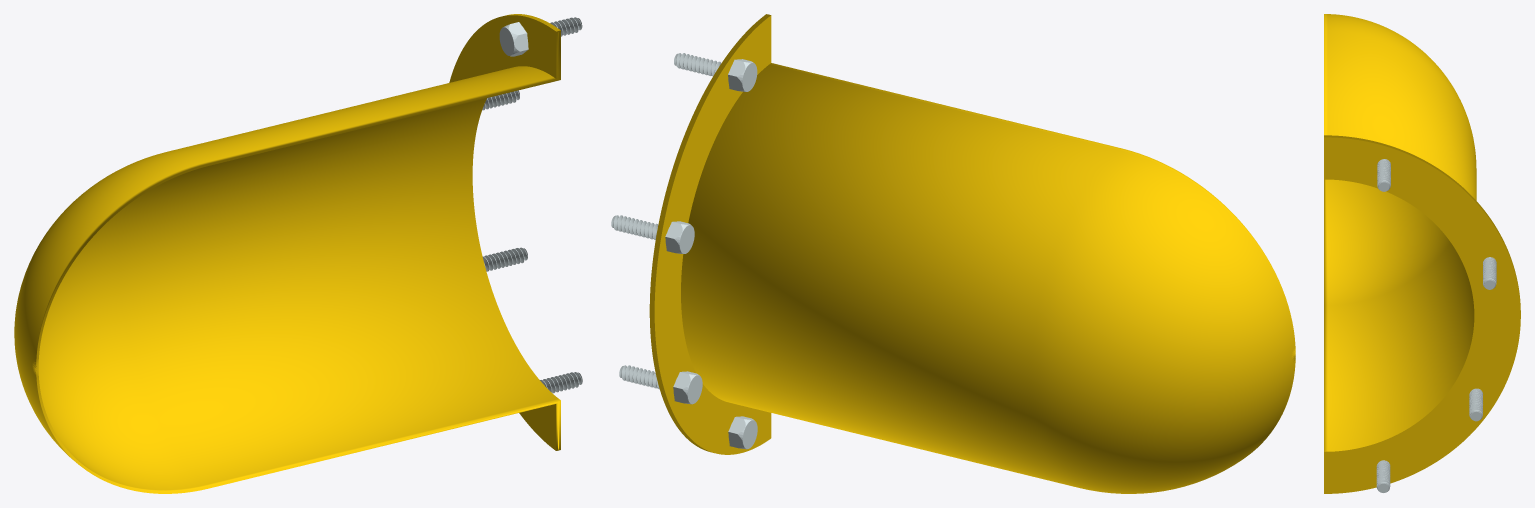
File: Casing.glb
3 renders of one model, left to right at view 1: azimuth 30°, elevation 25°; view 2: azimuth 150°, elevation 25°; view 3: azimuth 270°, elevation 25°, orthographic. The views are drawn at different scales.
Visible parts, largest first — view 1: Casing New, Bolt.015; view 2: Casing New, Bolt.015; view 3: Casing New, Bolt.015.
Boxes of the visible parts, <box> form: Casing New: <box>14,14,560,493</box>; Bolt.015: <box>482,17,582,393</box>; Casing New: <box>649,14,1295,493</box>; Bolt.015: <box>611,53,757,449</box>; Casing New: <box>1324,14,1520,493</box>; Bolt.015: <box>1376,159,1496,492</box>.
Size of the model in its own units: 2.38 by 1.65 by 0.825.
